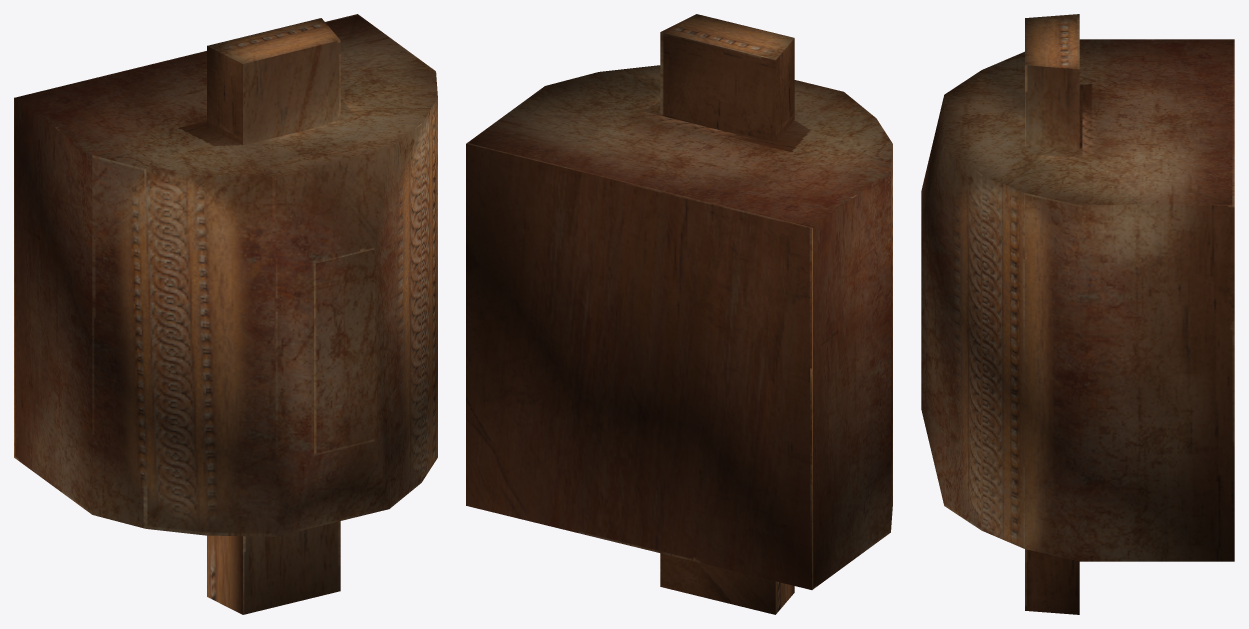
The model's file is Schatztruhe.fbx.
3 views of the same model, side by side, from view 1: azimuth 30°, elevation 25°; view 2: azimuth 150°, elevation 25°; view 3: azimuth 270°, elevation 25° (orthographic).
Visible parts, largest first — view 1: Questitem_Schatztruhe; view 2: Questitem_Schatztruhe; view 3: Questitem_Schatztruhe.
Boxes of the visible parts, x1,y1,x2,y2 form: Questitem_Schatztruhe: (14, 14, 437, 614); Questitem_Schatztruhe: (466, 14, 892, 614); Questitem_Schatztruhe: (921, 14, 1234, 614).
Bounding box in the file's own units: 6 × 9.19 × 4.79.
Materials: 1 (1 with a texture image).
